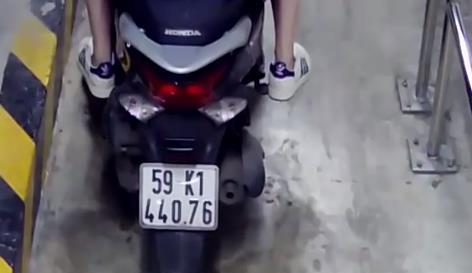lisence: (139, 162, 218, 230)
